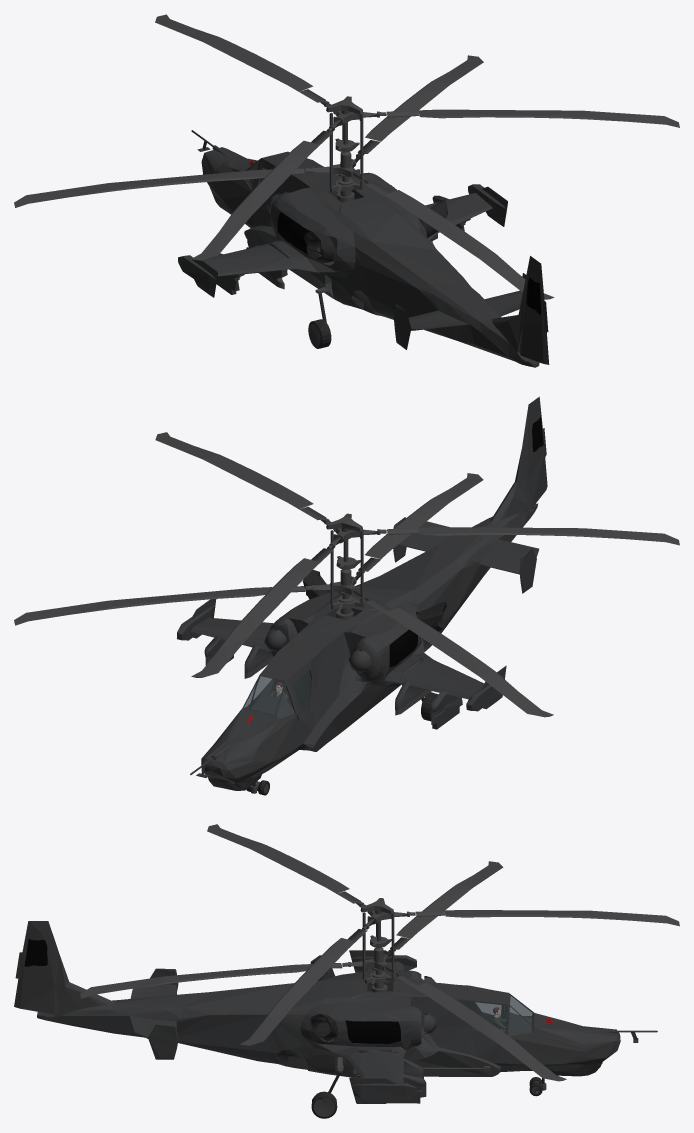
3 renders of one model, top to bottom at view 1: azimuth 30°, elevation 25°; view 2: azimuth 150°, elevation 25°; view 3: azimuth 270°, elevation 25°, orthographic. The views are drawn at different scales.
Visible parts, largest first — view 1: body|hokufusg-FACES, rotor|hokufusg-FACES_10, rotor2|hokufusg-FACES_10, body|hokufusg-FACES_20, body|hokufusg-FACES_6, body|hokufusg-FACES_2, body|hokufusg-FACES_19, body|hokufusg-FACES_5, body|hokufusg-FACES_18, body|hokufusg-FACES_3, body|hokufusg-FACES_9, body|hokufusg-FACES_0 (+2 smaller); view 2: body|hokufusg-FACES, rotor|hokufusg-FACES_10, rotor2|hokufusg-FACES_10, body|hokufusg-FACES_5, body|hokufusg-FACES_6, body|hokufusg-FACES_20, body|hokufusg-FACES_2, body|hokufusg-FACES_19, body|hokufusg-FACES_3, body|glass, body|hokufusg-FACES_1, body|hokufusg-FACES_12 (+6 smaller); view 3: body|hokufusg-FACES, body|hokufusg-FACES_5, rotor|hokufusg-FACES_10, rotor2|hokufusg-FACES_10, body|hokufusg-FACES_20, body|hokufusg-FACES_6, body|hokufusg-FACES_19, body|hokufusg-FACES_18, body|hokufusg-FACES_2, body|glass, body|hokufusg-FACES_0, body|hokufusg-FACES_12 (+5 smaller).
Part boxes in pixels (left/top/right/bottom): body|hokufusg-FACES: left=191, top=130, right=548, bottom=367; rotor|hokufusg-FACES_10: left=155, top=14, right=679, bottom=260; rotor2|hokufusg-FACES_10: left=14, top=55, right=554, bottom=299; body|hokufusg-FACES_20: left=270, top=172, right=427, bottom=279; body|hokufusg-FACES_6: left=249, top=89, right=435, bottom=346; body|hokufusg-FACES_2: left=202, top=193, right=492, bottom=276; body|hokufusg-FACES_19: left=492, top=256, right=549, bottom=364; body|hokufusg-FACES_5: left=211, top=157, right=309, bottom=226; body|hokufusg-FACES_18: left=178, top=184, right=507, bottom=297; body|hokufusg-FACES_3: left=408, top=290, right=522, bottom=330; body|hokufusg-FACES_9: left=247, top=199, right=447, bottom=321; body|hokufusg-FACES_0: left=277, top=185, right=391, bottom=254; body|hokufusg-FACES: left=190, top=428, right=546, bottom=774; rotor|hokufusg-FACES_10: left=155, top=432, right=679, bottom=677; rotor2|hokufusg-FACES_10: left=14, top=473, right=553, bottom=717; body|hokufusg-FACES_5: left=214, top=632, right=344, bottom=775; body|hokufusg-FACES_6: left=244, top=506, right=431, bottom=793; body|hokufusg-FACES_20: left=274, top=591, right=424, bottom=684; body|hokufusg-FACES_2: left=191, top=617, right=483, bottom=699; body|hokufusg-FACES_19: left=490, top=396, right=547, bottom=522; body|hokufusg-FACES_3: left=398, top=521, right=539, bottom=574; body|glass: left=226, top=670, right=310, bottom=786; body|hokufusg-FACES_1: left=196, top=621, right=378, bottom=777; body|hokufusg-FACES_12: left=201, top=741, right=253, bottom=782; body|hokufusg-FACES: left=15, top=952, right=657, bottom=1086; body|hokufusg-FACES_5: left=413, top=996, right=583, bottom=1066; rotor|hokufusg-FACES_10: left=207, top=824, right=679, bottom=1045; rotor2|hokufusg-FACES_10: left=80, top=861, right=566, bottom=1081; body|hokufusg-FACES_20: left=300, top=970, right=417, bottom=1052; body|hokufusg-FACES_6: left=313, top=891, right=546, bottom=1116; body|hokufusg-FACES_19: left=14, top=921, right=115, bottom=1014; body|hokufusg-FACES_18: left=349, top=950, right=416, bottom=1103; body|hokufusg-FACES_2: left=334, top=961, right=405, bottom=1082; body|glass: left=470, top=995, right=533, bottom=1036; body|hokufusg-FACES_0: left=345, top=1020, right=400, bottom=1043; body|hokufusg-FACES_12: left=582, top=1026, right=620, bottom=1064.
Bounding box in the file's own units: 13.31 × 5.02 × 16.07.
61 materials, 2 textured.
